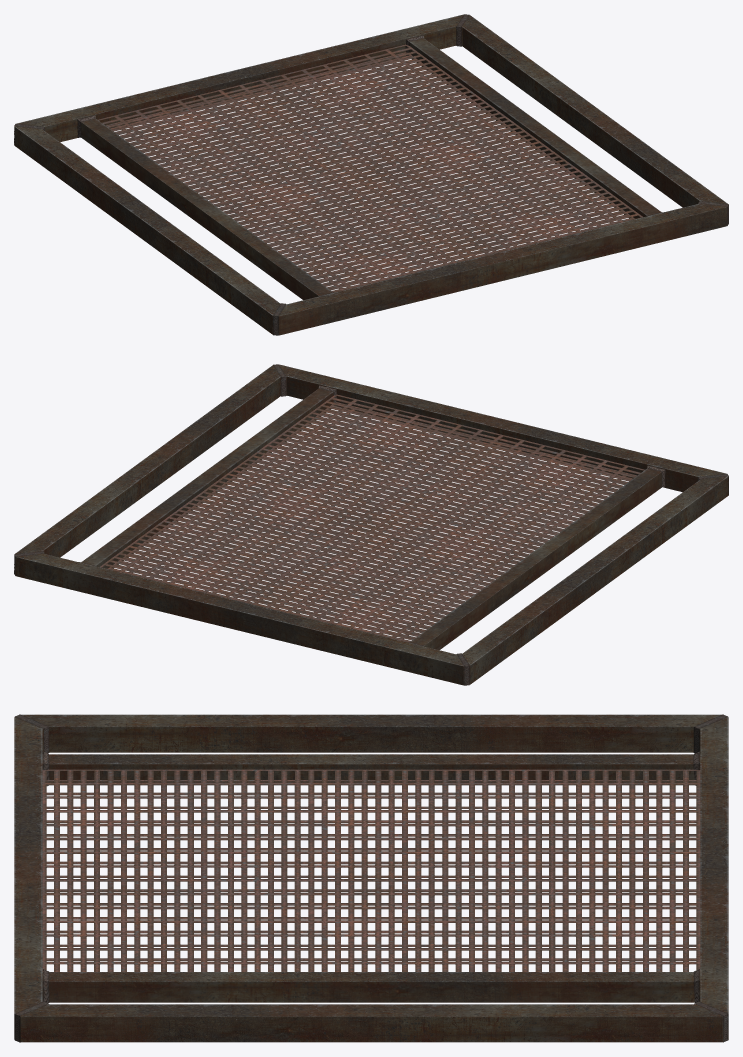
The model's file is SM_Sewer_Cage_Floor_A.fbx.
The picture shows the model from 3 angles, top to bottom: view 1: azimuth 30°, elevation 25°; view 2: azimuth 150°, elevation 25°; view 3: azimuth 270°, elevation 25°; orthographic projection. The views are drawn at different scales.
Parts seen in each view (by area): view 1: SM_Sewer_Cage_Floor_A; view 2: SM_Sewer_Cage_Floor_A; view 3: SM_Sewer_Cage_Floor_A.
Boxes of the visible parts, x1,y1,x2,y2 form: SM_Sewer_Cage_Floor_A: (14, 14, 728, 335); SM_Sewer_Cage_Floor_A: (14, 364, 728, 685); SM_Sewer_Cage_Floor_A: (14, 714, 728, 1042).
Size of the model in its own units: 250 by 10.24 by 250.
